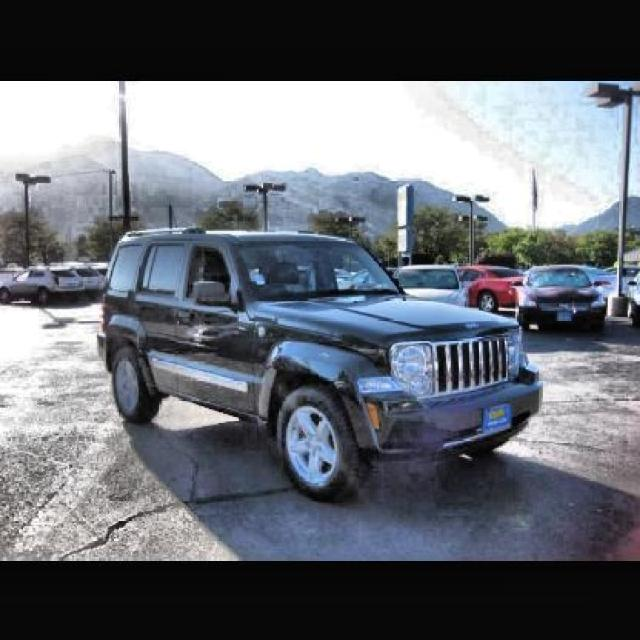black: (48, 218, 548, 487)
